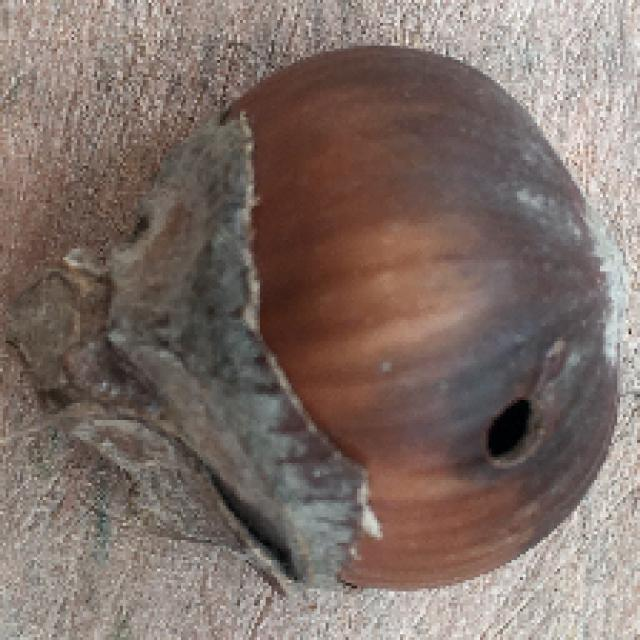DamagedHazelnut: (0, 40, 629, 589)
